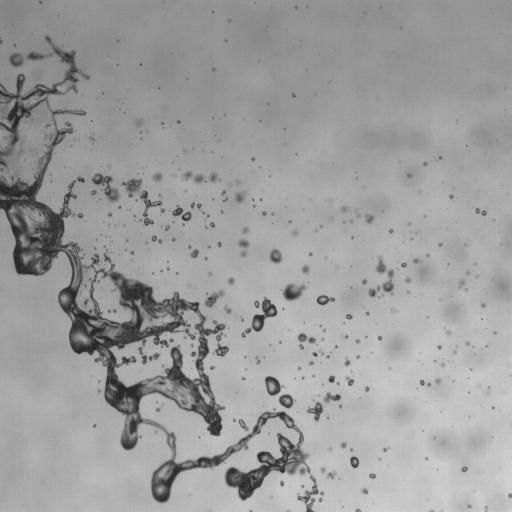droplet: (368, 256, 394, 297), (282, 283, 306, 301), (172, 205, 191, 223), (297, 332, 316, 349), (307, 402, 323, 421), (238, 239, 249, 257), (269, 248, 282, 263), (317, 294, 334, 305), (323, 392, 340, 403), (234, 191, 245, 203), (238, 419, 248, 431), (350, 456, 359, 468), (152, 172, 162, 182), (344, 376, 353, 386), (365, 214, 374, 223), (190, 249, 198, 258), (301, 265, 309, 274), (327, 471, 336, 478), (135, 119, 142, 126), (242, 226, 249, 233), (227, 277, 234, 284), (224, 306, 231, 313), (328, 375, 335, 382), (341, 206, 348, 212), (404, 277, 411, 283), (344, 358, 350, 365), (292, 230, 298, 236), (445, 329, 451, 335), (340, 442, 346, 448), (361, 488, 367, 494), (160, 207, 165, 213), (413, 258, 419, 263), (346, 314, 352, 319), (461, 466, 467, 471), (369, 473, 375, 478), (89, 136, 94, 141), (91, 190, 96, 195), (401, 262, 406, 267), (435, 378, 440, 383), (320, 467, 325, 472), (464, 341, 470, 345), (256, 357, 260, 363), (383, 447, 389, 451), (449, 194, 453, 199), (210, 222, 214, 227), (164, 225, 169, 229), (388, 229, 393, 233), (362, 279, 366, 284), (355, 339, 360, 343), (440, 362, 444, 367), (365, 386, 369, 391), (407, 173, 411, 177), (221, 191, 225, 195), (262, 211, 266, 215), (217, 242, 221, 246), (481, 303, 485, 307), (437, 345, 441, 349), (309, 361, 313, 365), (210, 365, 214, 369), (156, 407, 160, 411), (508, 493, 511, 498), (423, 162, 427, 165), (223, 198, 227, 201), (438, 242, 441, 246), (391, 309, 395, 312), (365, 312, 369, 315), (378, 336, 381, 340), (280, 481, 283, 485), (468, 504, 471, 508), (251, 157, 254, 160), (438, 156, 441, 159), (236, 180, 239, 183), (108, 213, 111, 216), (130, 251, 133, 254), (426, 253, 429, 256), (466, 271, 469, 274), (322, 328, 325, 331), (0, 39, 2, 43), (485, 507, 487, 511), (292, 94, 295, 96), (177, 120, 179, 123), (188, 246, 191, 248), (309, 253, 312, 255), (204, 257, 207, 259), (407, 291, 410, 293), (494, 331, 496, 334), (321, 338, 324, 340), (335, 345, 337, 348), (453, 351, 456, 353), (356, 355, 359, 357), (298, 367, 300, 370), (242, 377, 244, 380), (350, 448, 352, 451), (38, 111, 40, 113), (118, 206, 120, 208), (126, 239, 128, 241), (172, 238, 174, 240), (167, 267, 169, 269), (209, 272, 211, 274), (108, 310, 110, 312), (113, 310, 115, 312), (241, 318, 243, 320), (345, 335, 347, 337), (190, 344, 192, 346), (302, 377, 304, 379), (337, 382, 339, 384), (492, 406, 494, 408), (233, 419, 235, 421), (93, 424, 95, 426), (426, 457, 428, 459)
ligament: (0, 36, 314, 511), (121, 178, 161, 225), (241, 297, 277, 337), (265, 376, 296, 408), (92, 173, 120, 202), (181, 171, 219, 183), (204, 290, 224, 307), (152, 235, 162, 243), (475, 208, 486, 215), (459, 279, 466, 290), (419, 380, 431, 386), (191, 203, 201, 210), (312, 350, 323, 356), (355, 509, 361, 511), (249, 510, 252, 511), (430, 510, 433, 511)
